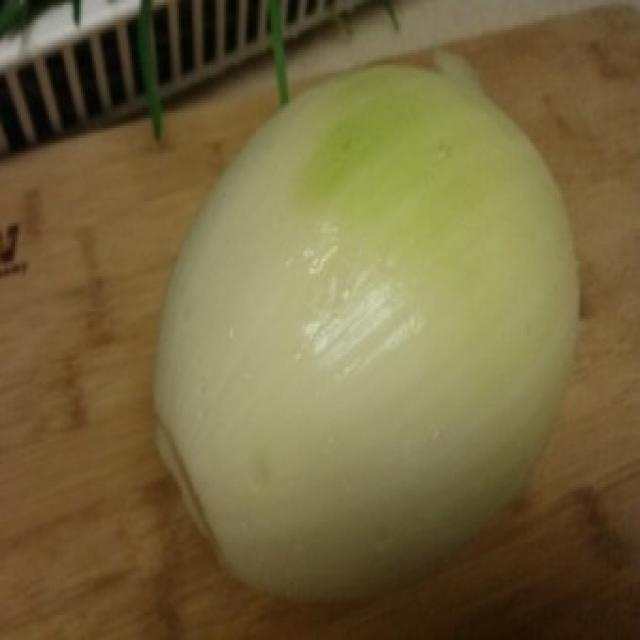onion: (118, 53, 607, 599)
